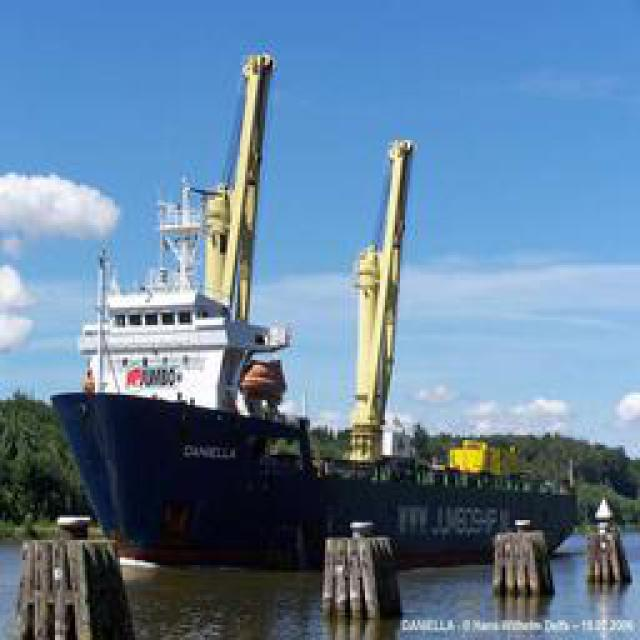Ship: (62, 50, 322, 590)
